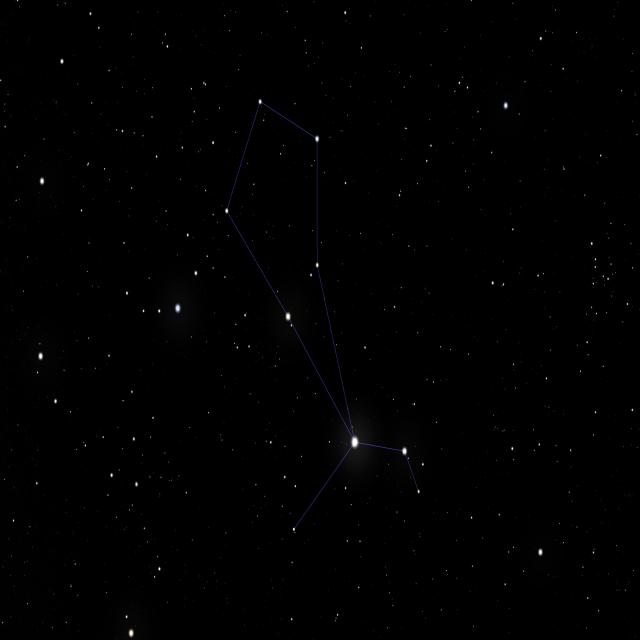Bootes: (221, 92, 423, 537)
